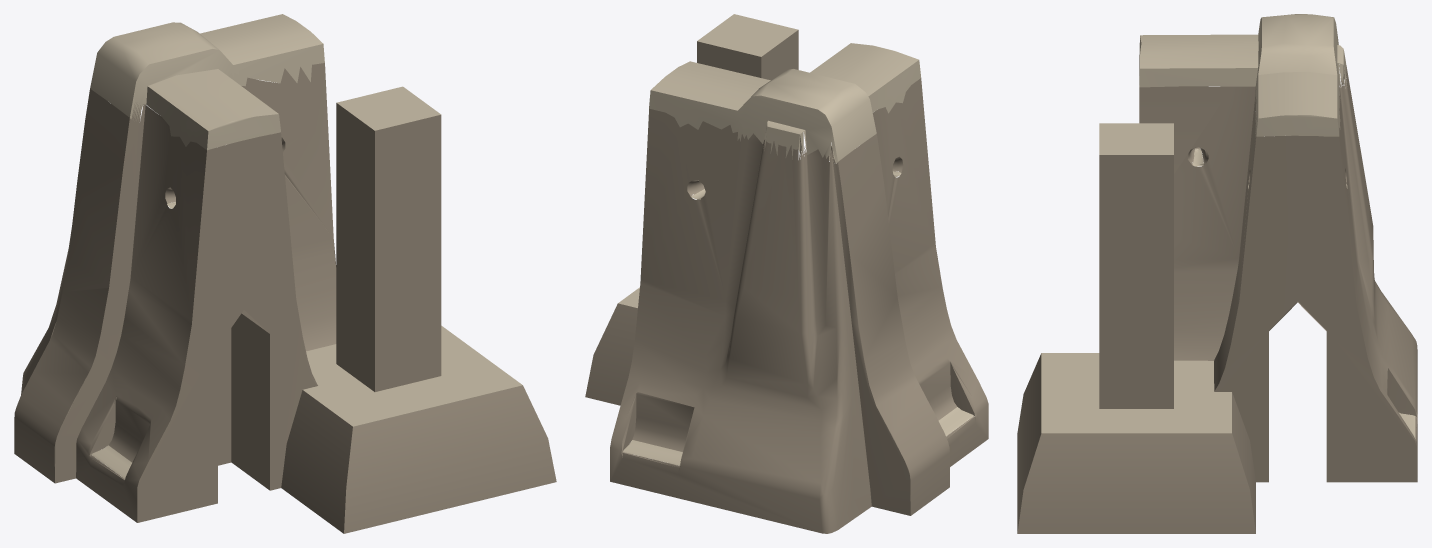
File: stone-wall-es-fill.glb
The picture shows the model from 3 angles, left to right: view 1: azimuth 30°, elevation 25°; view 2: azimuth 150°, elevation 25°; view 3: azimuth 270°, elevation 25°; orthographic projection. The views are drawn at different scales.
Visible parts, largest first — view 1: body; view 2: body; view 3: body.
Part boxes in pixels (x1,y1,x2,y2): body: (14,14,556,533); body: (585,14,988,533); body: (1017,14,1417,533).
Bounding box in the file's own units: 1.32 × 1.32 × 1.24.
